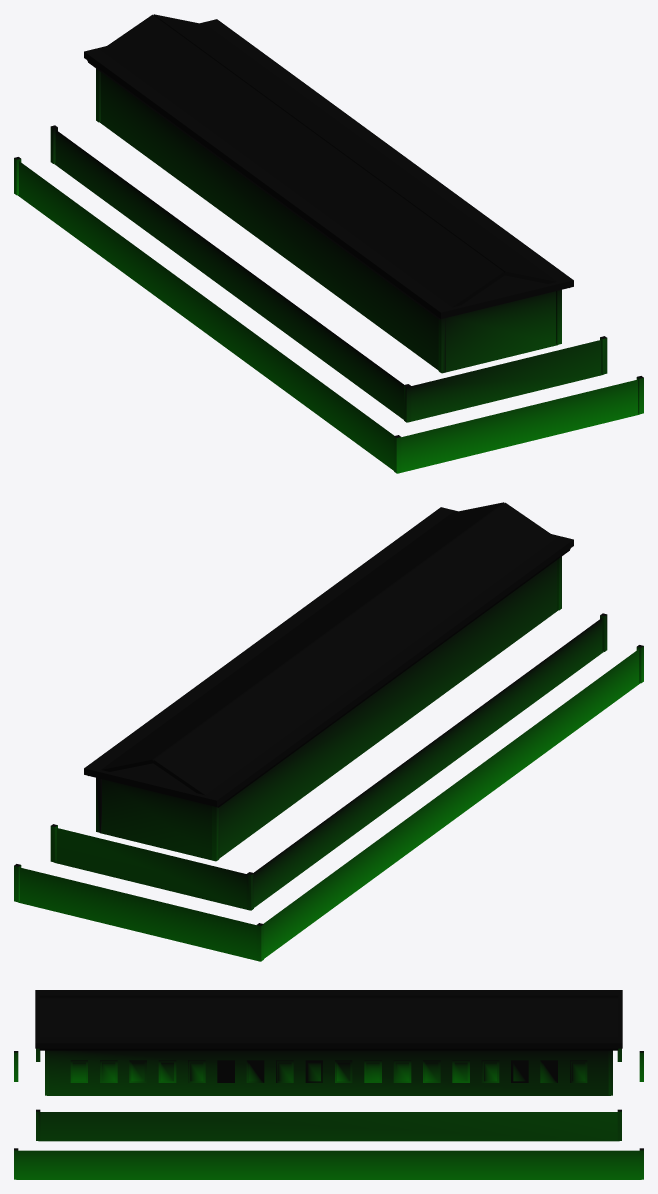
File: l_elitebarracks.glb
3 renders of one model, top to bottom at view 1: azimuth 30°, elevation 25°; view 2: azimuth 150°, elevation 25°; view 3: azimuth 270°, elevation 25°, orthographic. The views are drawn at different scales.
Visible parts, largest first — view 1: lod0; view 2: lod0; view 3: lod0.
Boxes of the visible parts, bbox=[...] form: lod0: bbox=[14, 14, 643, 473]; lod0: bbox=[14, 502, 643, 961]; lod0: bbox=[14, 990, 643, 1179].
Size of what is drawn, in the model's own units: 16 by 10.01 by 42.9.
